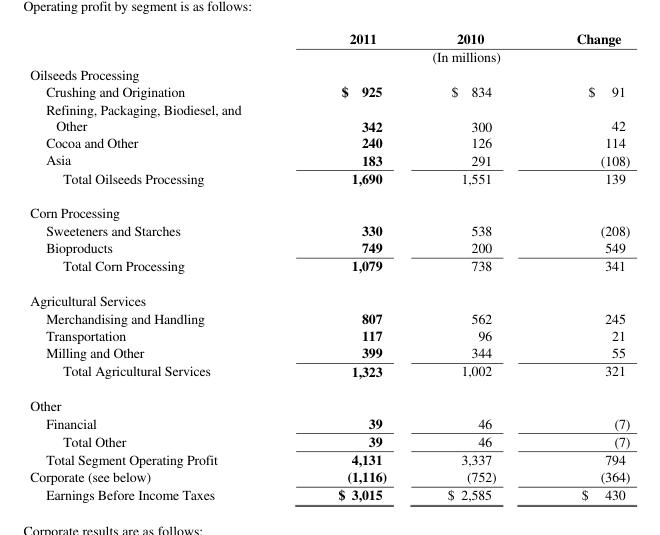table: (29, 28, 629, 504)
table column: (29, 28, 288, 504), (288, 28, 416, 504), (416, 28, 535, 504), (535, 28, 629, 504)
table column header: (29, 28, 629, 64)
table projected row header: (29, 282, 629, 308), (29, 387, 629, 413), (29, 195, 629, 220), (29, 64, 629, 82)
table row: (29, 100, 629, 134), (29, 168, 629, 195), (29, 256, 629, 282), (29, 282, 629, 308), (29, 361, 629, 387), (29, 387, 629, 413), (29, 195, 629, 220), (29, 28, 629, 47), (29, 485, 629, 504), (29, 64, 629, 82), (29, 82, 629, 100), (29, 150, 629, 168), (29, 220, 629, 238), (29, 238, 629, 256), (29, 308, 629, 326), (29, 343, 629, 361), (29, 413, 629, 431), (29, 431, 629, 449), (29, 449, 629, 467), (29, 467, 629, 485), (29, 47, 629, 64), (29, 326, 629, 343), (29, 134, 629, 150)
table spanning cell: (288, 47, 629, 64)
